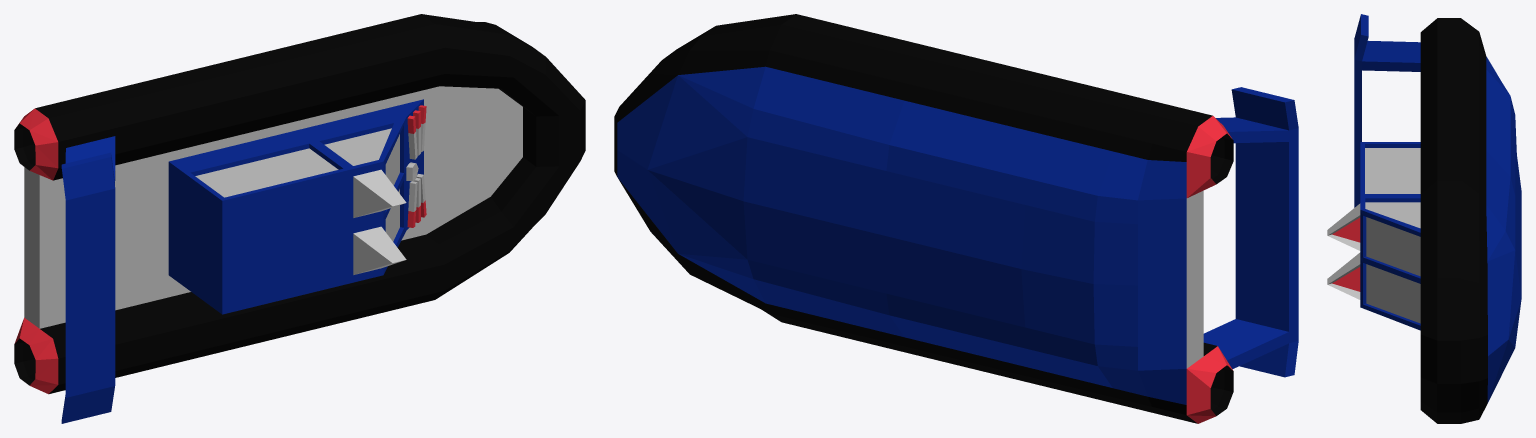
File: kitty-space-police.fbx
The picture shows the model from 3 angles, left to right: view 1: azimuth 30°, elevation 25°; view 2: azimuth 150°, elevation 25°; view 3: azimuth 270°, elevation 25°; orthographic projection. The views are drawn at different scales.
Parts seen in each view (by area): view 1: Kitty-Police-Ship; view 2: Kitty-Police-Ship; view 3: Kitty-Police-Ship.
Part boxes in pixels (x1=…): Kitty-Police-Ship: x1=14, y1=14, x2=585, y2=423; Kitty-Police-Ship: x1=614, y1=14, x2=1298, y2=423; Kitty-Police-Ship: x1=1327, y1=14, x2=1521, y2=423.
Bounding box in the file's own units: 8.19 × 17.64 × 6.07.
